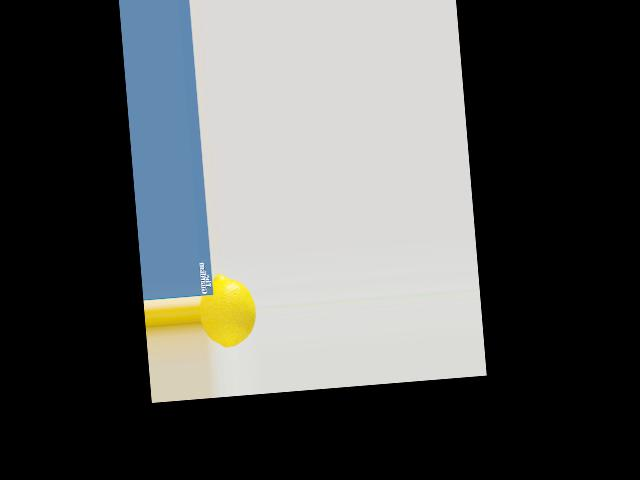lemon: (196, 267, 258, 353)
